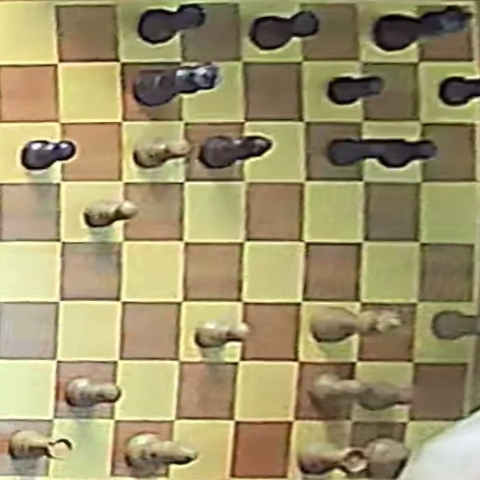black-bishop: (201, 135, 270, 169)
black-king: (375, 6, 472, 52)
black-pawn: (376, 137, 437, 168), (326, 137, 387, 168), (328, 74, 385, 105), (22, 139, 74, 170), (439, 75, 480, 106)
black-queen: (135, 64, 218, 106)
black-rook: (138, 4, 206, 45), (250, 10, 319, 50)
white-bishop: (124, 432, 197, 473)
white-king: (362, 436, 428, 479)
white-pawn: (307, 373, 366, 409), (357, 379, 416, 415), (134, 138, 193, 169), (66, 377, 120, 407), (85, 199, 139, 227), (195, 320, 248, 348), (431, 310, 479, 340)
white-queen: (308, 305, 401, 344)
white-rook: (298, 441, 370, 476), (10, 430, 73, 460)
